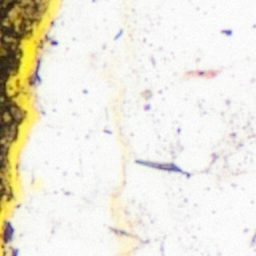cement_matrix: (0, 0, 38, 199), (11, 10, 19, 20)
cracks: (0, 0, 57, 255)
gravel_crushed_stones: (8, 0, 255, 255), (12, 11, 18, 19)
